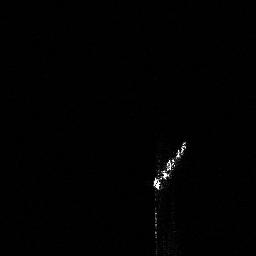ship: (150, 137, 188, 190)
